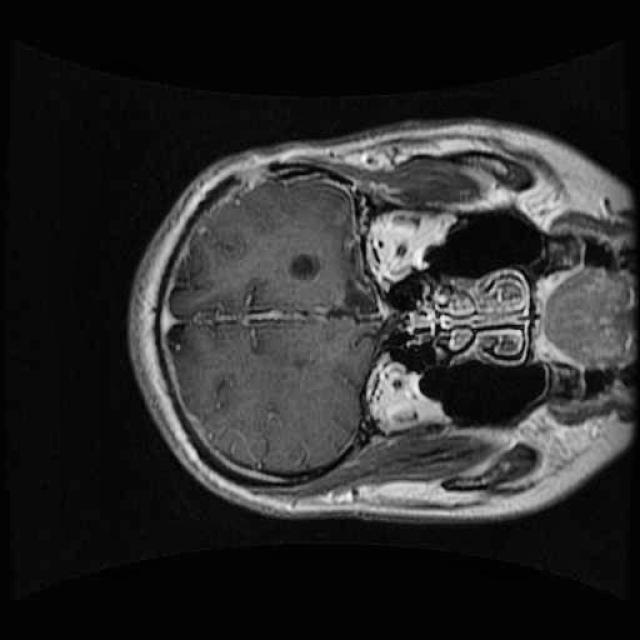Non-Tumor: (285, 243, 328, 292)
